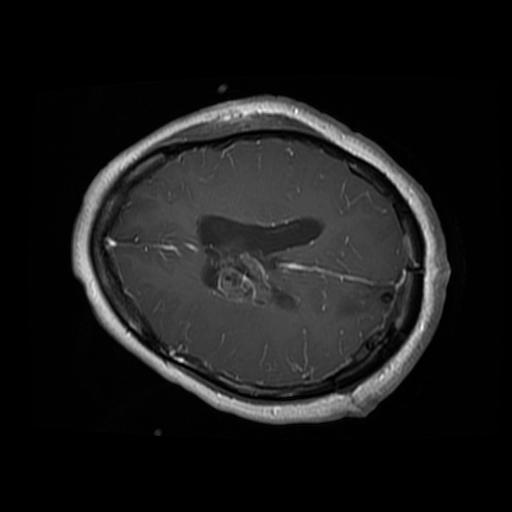glioma: (211, 249, 299, 313)
